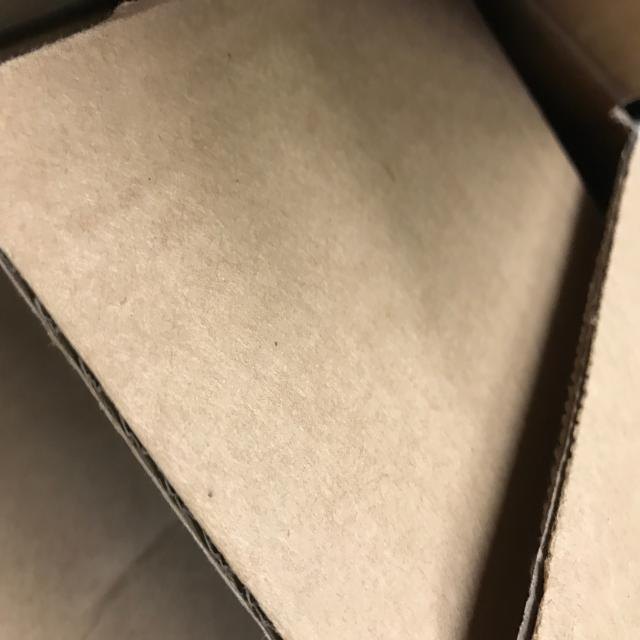cardboard: (1, 1, 629, 638)
